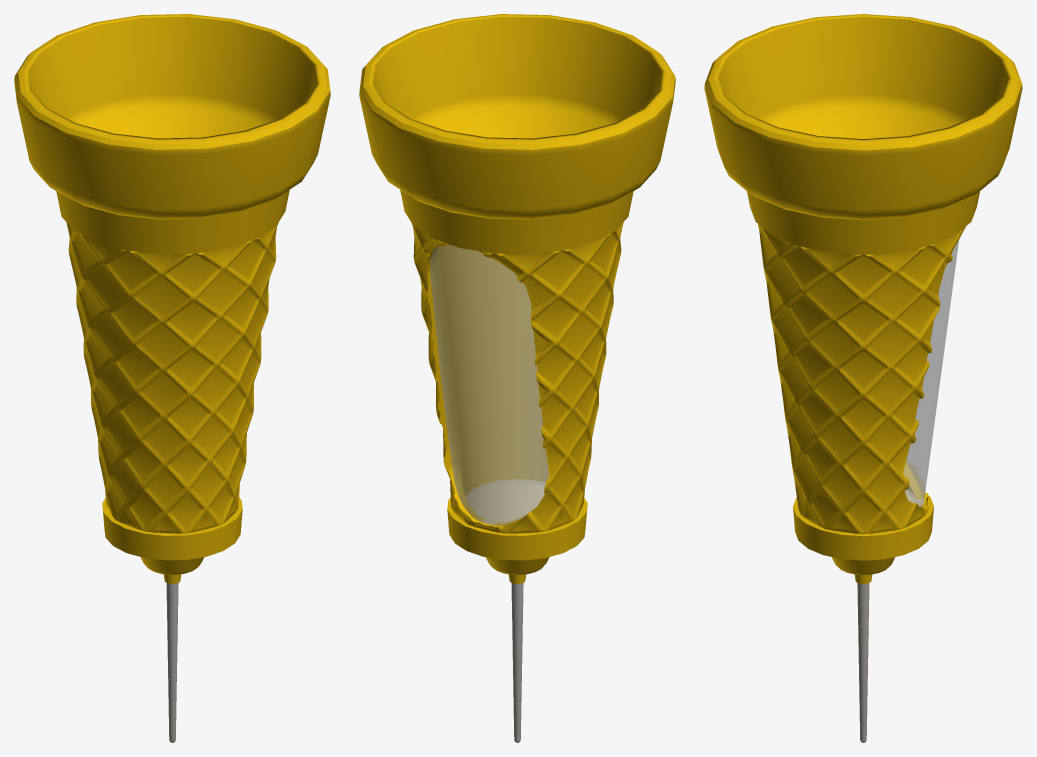
File: icecream_barrel.fbx
3 renders of one model, left to right at view 1: azimuth 30°, elevation 25°; view 2: azimuth 150°, elevation 25°; view 3: azimuth 270°, elevation 25°, orthographic.
Parts seen in each view (by area): view 1: IceCream_barrel; view 2: IceCream_barrel; view 3: IceCream_barrel.
Part boxes in pixels (x1=…): IceCream_barrel: x1=14, y1=14, x2=330, y2=742; IceCream_barrel: x1=359, y1=14, x2=675, y2=742; IceCream_barrel: x1=704, y1=14, x2=1022, y2=742.
Size of the model in its own units: 0.3631 by 0.8368 by 0.3631.
